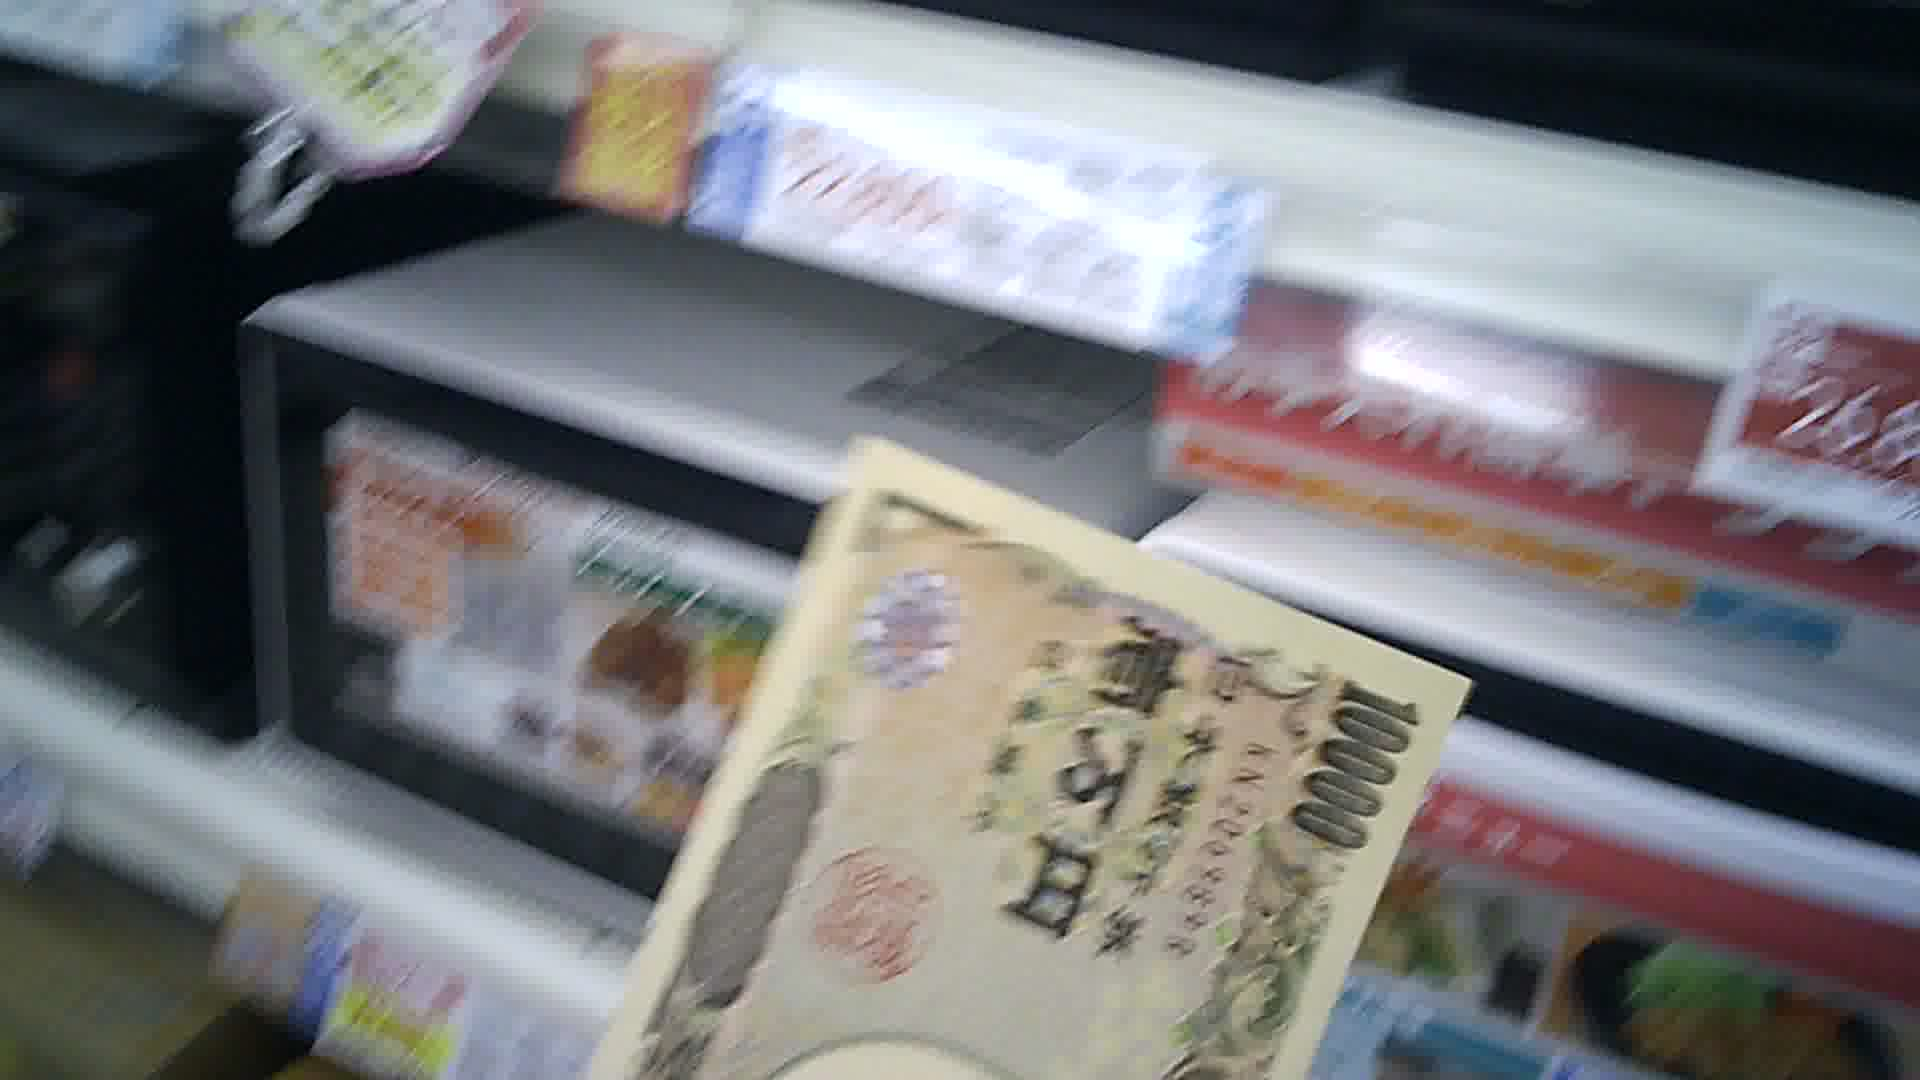10,000 Yen: (626, 452, 1501, 1079)
